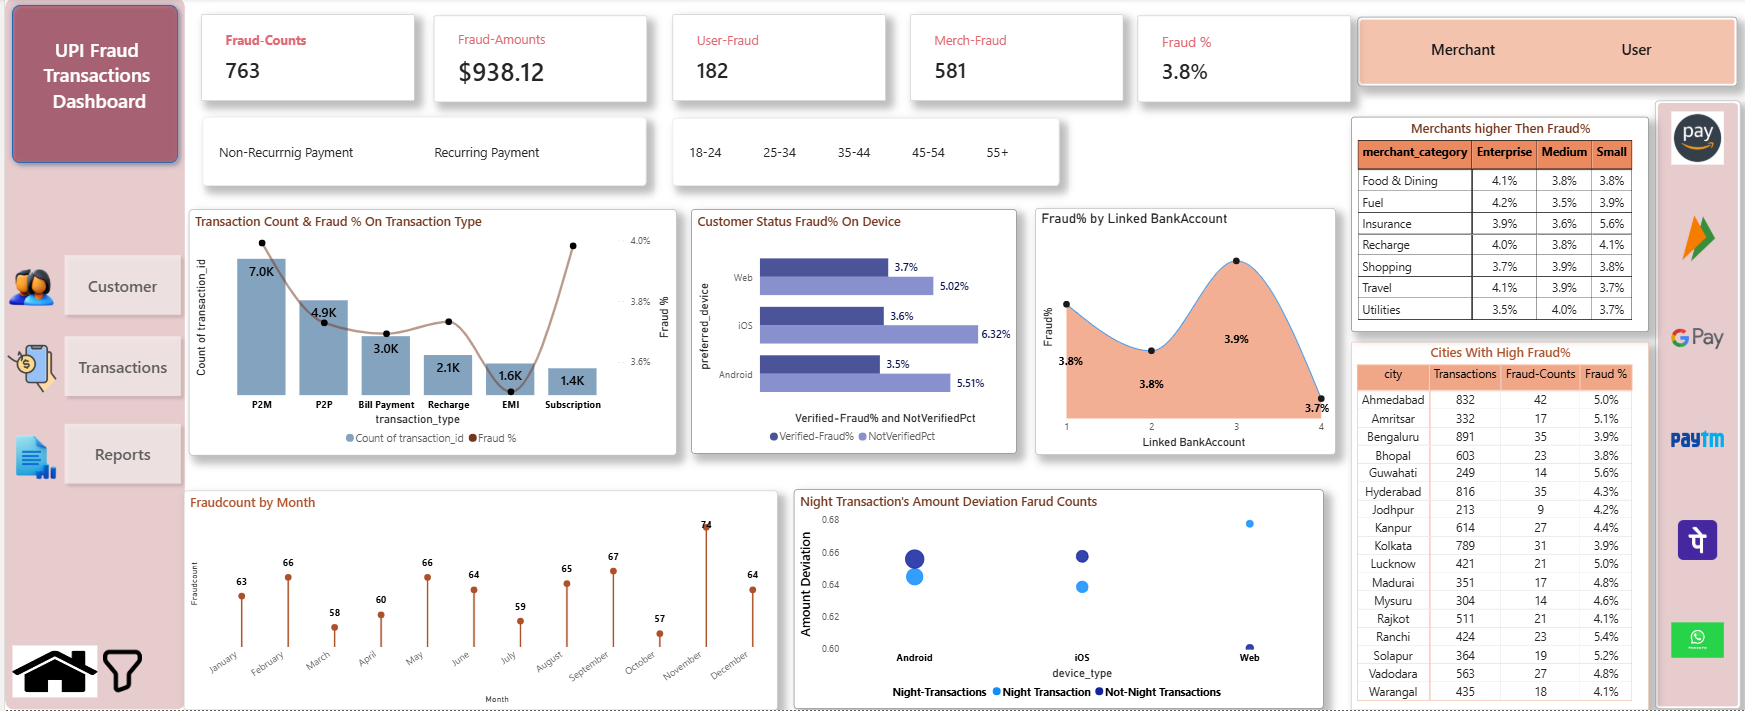

Layout of this report page (visuals, bound fields, positions):
{"tool":"powerbi","page":{"name":"Fraud Transaction","canvas":[2200,900],"ordinal":3},"visuals":[{"type":"group","id":"g1","title":"Group 11","box":[0,0,230.9,899.5],"z":0},{"type":"shape","box":[0,0,227.5,217.6],"z":0,"group":"g2"},{"type":"shape","box":[0,0,227.5,899.5],"z":0,"group":"g1"},{"type":"actionButton","box":[66.2,315.8,164.7,93.2],"z":0,"group":"g5"},{"type":"actionButton","box":[66.2,418.5,164.7,93.2],"z":0,"group":"g6"},{"type":"actionButton","box":[66.2,528.8,164.7,93.2],"z":0,"group":"g7"},{"type":"group","id":"g2","title":"Group 1","box":[0,0,227.5,217.6],"z":1000,"group":"g1"},{"type":"group","id":"g3","title":"Group 2","box":[248.6,20.3,1452.9,111.6],"z":1000},{"type":"textbox","box":[30.6,43.8,171.9,128.3],"z":1000,"group":"g2"},{"type":"image","box":[1.7,331,64.5,66.6],"z":1000,"group":"g5"},{"type":"image","box":[1.7,433.7,64.5,66.6],"z":1000,"group":"g6"},{"type":"image","box":[1.7,544,64.5,66.6],"z":1000,"group":"g7"},{"type":"cardVisual","fields":{"Data":["fraud_labels.Fraud-Counts"]},"box":[248.6,20.3,269.3,109.7],"z":2000,"group":"g3"},{"type":"group","id":"g4","title":"Group 3","box":[2084.5,111.9,107.9,787.4],"z":2000},{"type":"group","id":"g5","title":"Group 10","box":[1.7,315.8,229.2,93.2],"z":2000,"group":"g1"},{"type":"cardVisual","fields":{"Data":["fraud_labels.User-Fraud"]},"box":[843.6,20.3,269.3,109.7],"z":3000,"group":"g3"},{"type":"shape","box":[2084.5,129.1,108,769.1],"z":3000,"group":"g4"},{"type":"lineClusteredColumnComboChart","title":"Transaction Count & Fraud % On Transaction Type","fields":{"Category":["transactions.transaction_type"],"Y":["Count(transactions.transaction_id)"],"Y2":["fraud_labels.Fraud %"]},"box":[232.8,266.3,616.4,311],"z":3000},{"type":"group","id":"g6","title":"Group 10","box":[1.7,418.5,229.2,93.2],"z":3000,"group":"g1"},{"type":"cardVisual","fields":{"Data":["fraud_labels.Fraud %"]},"box":[1431.5,21.8,269.3,109.7],"z":4000,"group":"g3"},{"type":"advancedSlicerVisual","fields":{"Values":["slicer.preferred_ app"]},"box":[2098.1,111.9,79.5,769.6],"z":4000,"group":"g4"},{"type":"pivotTable","title":"Cities With High Fraud%","fields":{"Rows":["users.city"],"Values":["fraud_labels.Transaction_Counts","fraud_labels.Fraud-Counts","fraud_labels.Fraud %"]},"box":[1700.8,433.7,375.7,465.7],"z":4000},{"type":"group","id":"g7","title":"Group 10","box":[1.7,528.8,229.2,93.2],"z":4000,"group":"g1"},{"type":"cardVisual","fields":{"Data":["fraud_labels.Merch-Fraud"]},"box":[1144.6,20.3,269.3,109.7],"z":5000,"group":"g3"},{"type":"clusteredBarChart","title":"Customer Status Fraud% On Device","fields":{"Category":["users.preferred_device"],"Y":["fraud_labels.Verified-Fraud%","fraud_labels.NotVerifiedPct"]},"box":[867.8,266.3,411.6,309.1],"z":5000},{"type":"cardVisual","fields":{"Data":["fraud_labels.Fraud-Amounts"]},"box":[542.6,21.8,269.3,109.7],"z":6000,"group":"g3"},{"type":"stackedAreaChart","title":"Fraud% by Linked BankAccount","fields":{"Category":["users.linked_bank_count"],"Y":["fraud_labels.Fraud%"]},"box":[1301.1,265.8,379.7,311.8],"z":6000},{"type":"lineChart","fields":{"Category":["transactions.date.Variation.Date Hierarchy.Month"],"Y":["fraud_labels.Fraudcount"]},"box":[225.3,622,750.5,277.5],"z":7000},{"type":"shape","box":[1709,24,479.7,87.9],"z":7006,"group":"g8"},{"type":"advancedSlicerVisual","fields":{"Values":["transactions.receiver_type"]},"box":[1728.7,24,449.7,83.9],"z":7506,"group":"g8"},{"type":"group","id":"g8","title":"Group 5","box":[1709,24,479.7,87.9],"z":8000},{"type":"advancedSlicerVisual","fields":{"Values":["transactions.Recurring Text"]},"box":[249.6,149.3,561.1,87.5],"z":9000},{"type":"scatterChart","title":"Night Transaction''s Amount Deviation Farud Counts  ","fields":{"X":["transactions.device_type"],"Y":["Avg(fraud_labels.amount_deviation_score)"],"Size":["fraud_labels.Fraud-Counts"],"Series":["transactions.is_night_transaction - Copy"]},"box":[997.3,621.5,669.5,277.8],"z":10000},{"type":"pivotTable","title":"Merchants higher Then Fraud% ","fields":{"Rows":["merchants.merchant_category"],"Values":["fraud_labels.Fraud%"],"Columns":["merchants.merchant_size"]},"box":[1700.8,149.9,375.7,271.8],"z":11000},{"type":"advancedSlicerVisual","fields":{"Values":["users.age_group"]},"box":[842.7,151.5,488.6,85.3],"z":12000},{"type":"image","box":[95.2,818.5,107.1,65.5],"z":13000},{"type":"image","box":[8.9,818.5,107.1,65.5],"z":14000}]}

Visuals, with their boxes in screenshot pixels (x1, y1, x2, y2), scaled from the page's 2200x900 canvas onto the 1745x711 screenshot:
"Group 11" group: [0, 0, 183, 710]
shape: [0, 0, 180, 172]
shape: [0, 0, 180, 710]
actionButton: [53, 249, 183, 323]
actionButton: [53, 331, 183, 404]
actionButton: [53, 418, 183, 491]
"Group 1" group: [0, 0, 180, 172]
"Group 2" group: [197, 16, 1350, 104]
textbox: [24, 35, 161, 136]
image: [1, 261, 53, 314]
image: [1, 343, 53, 395]
image: [1, 430, 53, 482]
cardVisual - fraud_labels.Fraud-Counts: [197, 16, 411, 103]
"Group 3" group: [1653, 88, 1739, 710]
"Group 10" group: [1, 249, 183, 323]
cardVisual - fraud_labels.User-Fraud: [669, 16, 883, 103]
shape: [1653, 102, 1739, 710]
"Transaction Count & Fraud % On Transaction Type" lineClusteredColumnComboChart: [185, 210, 674, 456]
"Group 10" group: [1, 331, 183, 404]
cardVisual - fraud_labels.Fraud %: [1135, 17, 1349, 104]
advancedSlicerVisual - slicer.preferred_ app: [1664, 88, 1727, 696]
"Cities With High Fraud%" pivotTable: [1349, 343, 1647, 710]
"Group 10" group: [1, 418, 183, 491]
cardVisual - fraud_labels.Merch-Fraud: [908, 16, 1121, 103]
"Customer Status Fraud% On Device" clusteredBarChart: [688, 210, 1015, 455]
cardVisual - fraud_labels.Fraud-Amounts: [430, 17, 644, 104]
"Fraud% by Linked BankAccount" stackedAreaChart: [1032, 210, 1333, 456]
lineChart - transactions.date.Variation.Date Hierarchy.Month x fraud_labels.Fraudcount: [179, 491, 774, 710]
shape: [1356, 19, 1736, 88]
advancedSlicerVisual - transactions.receiver_type: [1371, 19, 1728, 85]
"Group 5" group: [1356, 19, 1736, 88]
advancedSlicerVisual - transactions.Recurring Text: [198, 118, 643, 187]
"Night Transaction''s Amount Deviation Farud Counts  " scatterChart: [791, 491, 1322, 710]
"Merchants higher Then Fraud% " pivotTable: [1349, 118, 1647, 333]
advancedSlicerVisual - users.age_group: [668, 120, 1056, 187]
image: [76, 647, 160, 698]
image: [7, 647, 92, 698]
